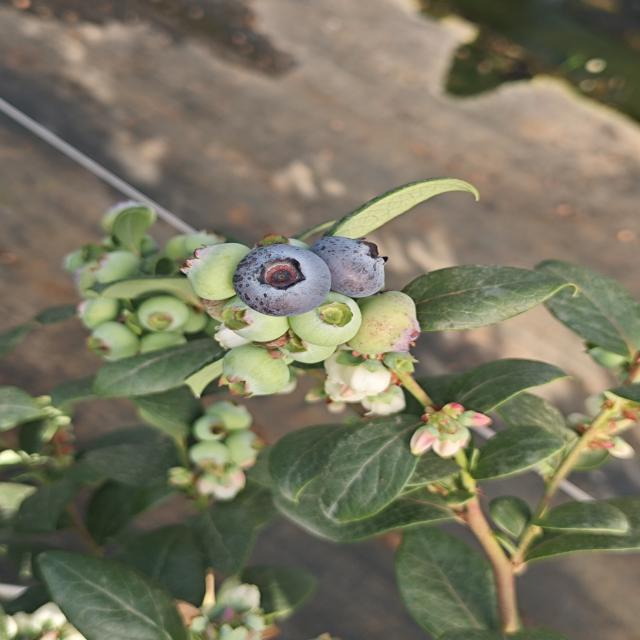ripe: (232, 238, 326, 317), (311, 231, 389, 301)
